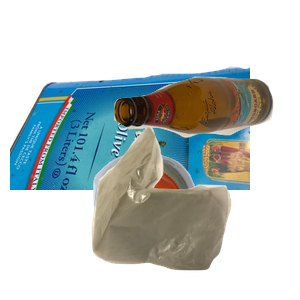glass: (111, 74, 300, 204)
metal: (10, 64, 250, 244)
plastic: (91, 152, 281, 300)
trash: (89, 124, 300, 300)
